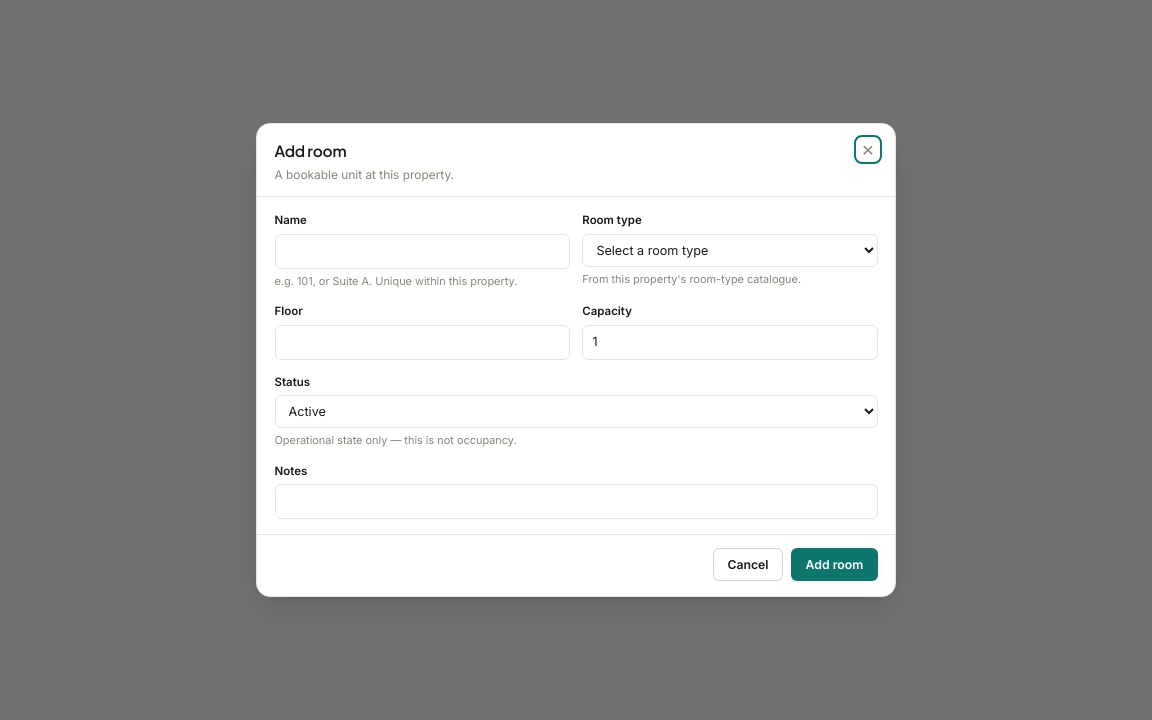
RoomDialog room-type picker › requires a type to be chosen, and sends nothing until one is
Expected: the dropdown labelled "Room type" shows "Select a room type", [582,234,878,267]
Type "307" into the field labelled "Name" at (422, 251), box [274,234,570,269]
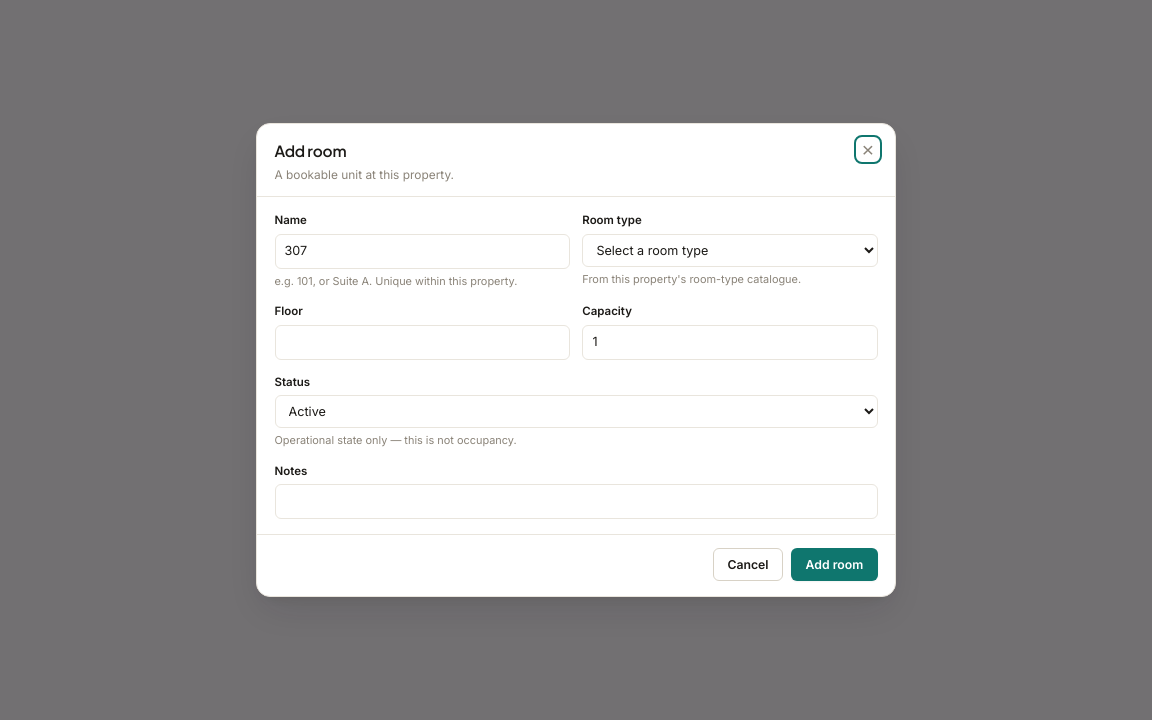
Click the button "Add room" at (834, 564), box [791,548,878,581]
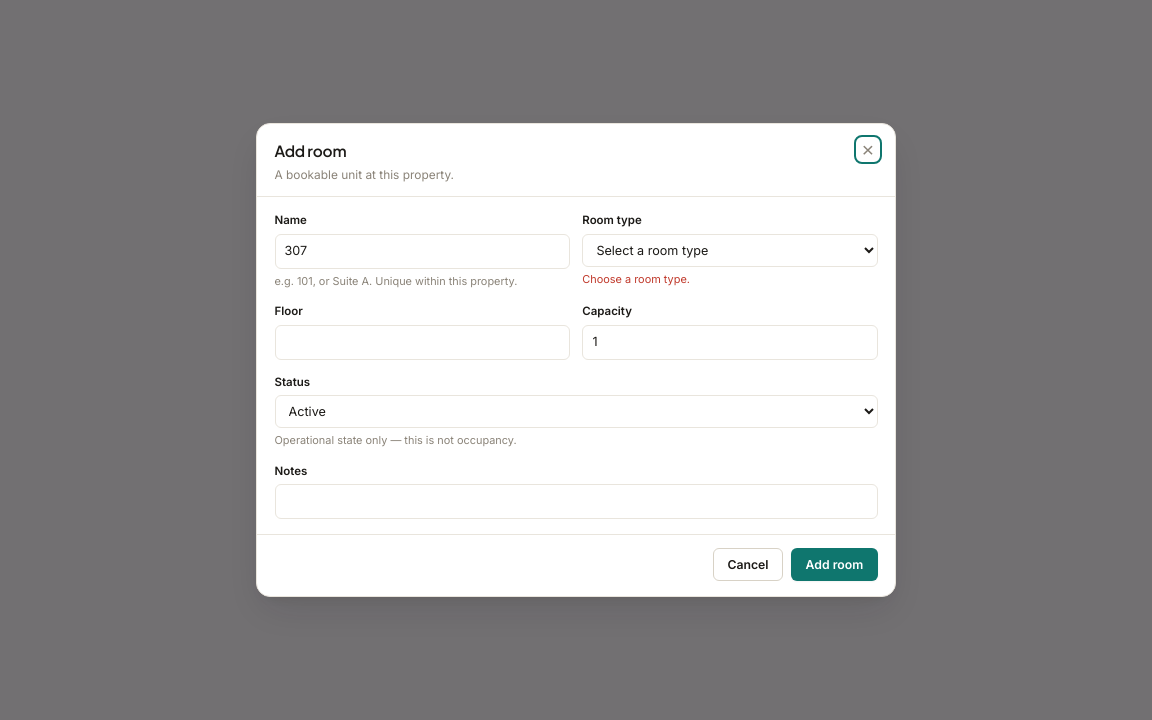
Expected: the text "Choose a room type." is shown, [582,272,690,286]
